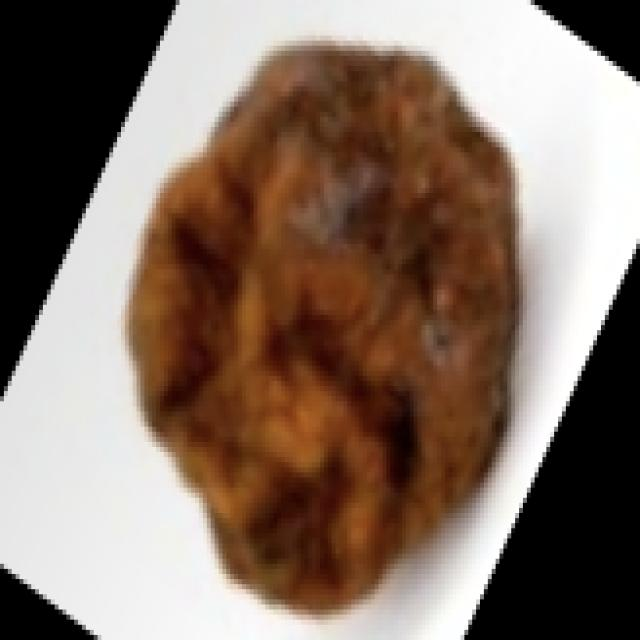sangat_busuk: (126, 54, 523, 601)
